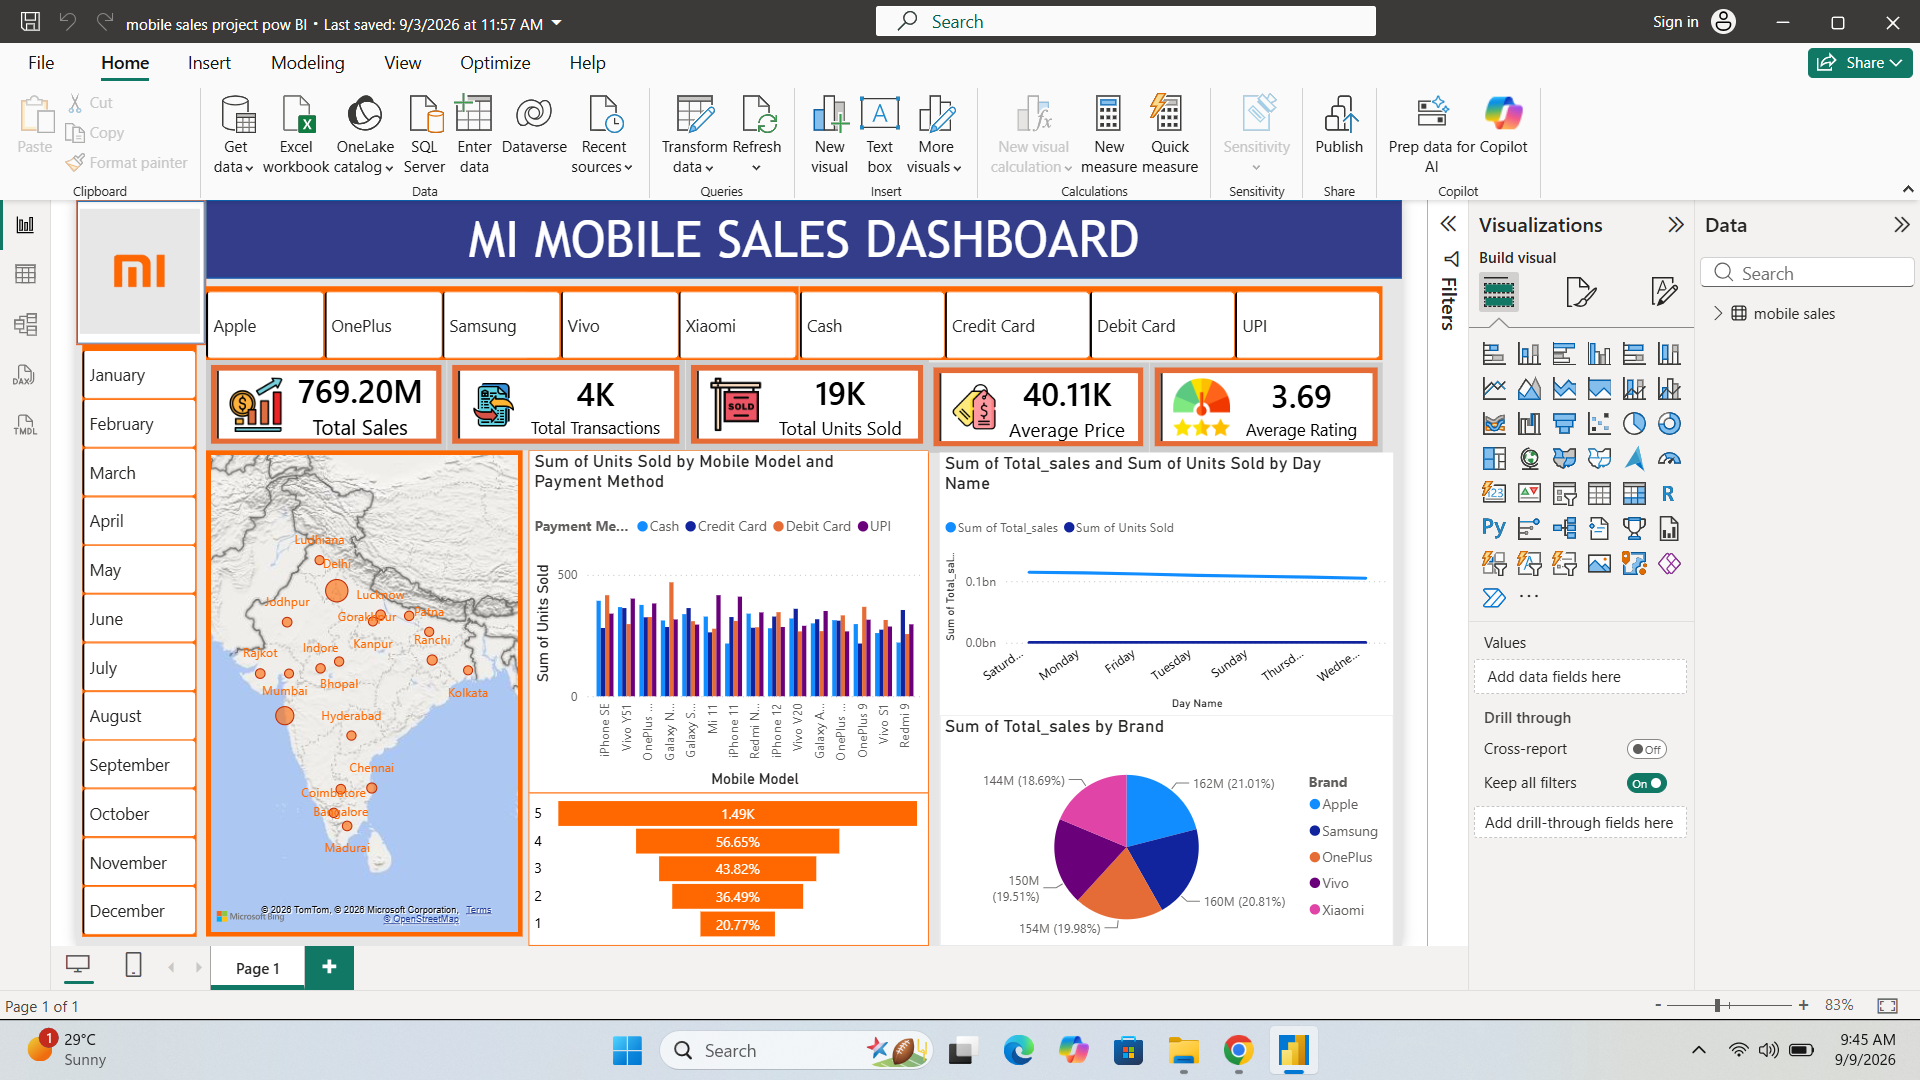

This screenshot's page, from the dashboard's own definition file:
{"tool":"powerbi","page":{"name":"Page 1","canvas":[1280,720],"ordinal":0},"visuals":[{"type":"shape","box":[126,0,1154.4,75.8],"z":0},{"type":"shape","box":[0,0,125.5,139.9],"z":1000},{"type":"image","box":[3.6,8.4,115.8,120.6],"z":2000},{"type":"advancedSlicerVisual","fields":{"Values":["mobile sales.Date.Variation.Date Hierarchy.Month"]},"box":[6.1,139.4,110.1,571.1],"z":3000},{"type":"advancedSlicerVisual","fields":{"Values":["mobile sales.Brand"]},"box":[126,83.2,572.3,70.9],"z":4000},{"type":"advancedSlicerVisual","fields":{"Values":["mobile sales.Payment Method"]},"box":[698.2,83.2,562.5,70.9],"z":5000},{"type":"map","fields":{"Size":["Sum(mobile sales.Total_sales)"],"Category":["mobile sales.City"]},"box":[126,240.9,305.7,469.6],"z":6000},{"type":"funnel","fields":{"Category":["mobile sales.Customer Ratings"],"Y":["CountNonNull(mobile sales.Transaction ID)"]},"box":[436.6,572.3,386.4,148],"z":7000},{"type":"clusteredColumnChart","fields":{"Category":["mobile sales.Mobile Model"],"Y":["Sum(mobile sales.Units Sold)"],"Series":["mobile sales.Payment Method"]},"box":[436.6,240.9,386.4,331.4],"z":8000},{"type":"pieChart","fields":{"Y":["Sum(mobile sales.Total_sales)"],"Category":["mobile sales.Brand"]},"box":[833.7,497.1,437.9,223.2],"z":9000},{"type":"cardVisual","fields":{"Data":["mobile sales.Total Sales"]},"box":[126,154.1,232.3,86.8],"z":10000},{"type":"cardVisual","fields":{"Data":["mobile sales.Total Transactions"]},"box":[358.3,154.1,229.9,86.8],"z":11000},{"type":"cardVisual","fields":{"Data":["mobile sales.Total Units Sold"]},"box":[588.2,154.1,234.8,86.8],"z":12000},{"type":"cardVisual","fields":{"Data":["mobile sales.Average Price"]},"box":[823,156.5,212.8,86.8],"z":13000},{"type":"cardVisual","fields":{"Data":["mobile sales.Average Rating"]},"box":[1035.7,156.5,225,86.8],"z":14000},{"type":"lineChart","fields":{"Y":["Sum(mobile sales.Total_sales)","Sum(mobile sales.Units Sold)"],"Category":["mobile sales.Day Name"]},"box":[833.7,243.7,437.9,253.4],"z":15000}]}

Visuals, with their boxes on the page's 1280x720 design canvas (x1, y1, x2, y2). These are canvas units, not pixel positions in the 1920x1080 screenshot, which may show the page scaled, cropped or inside an application window:
shape: 126,0,1280,76
shape: 0,0,126,140
image: 4,8,119,129
advancedSlicerVisual - mobile sales.Date.Variation.Date Hierarchy.Month: 6,139,116,710
advancedSlicerVisual - mobile sales.Brand: 126,83,698,154
advancedSlicerVisual - mobile sales.Payment Method: 698,83,1261,154
map - Sum(mobile sales.Total_sales) x mobile sales.City: 126,241,432,710
funnel - mobile sales.Customer Ratings x CountNonNull(mobile sales.Transaction ID): 437,572,823,720
clusteredColumnChart - mobile sales.Mobile Model x Sum(mobile sales.Units Sold): 437,241,823,572
pieChart - Sum(mobile sales.Total_sales) x mobile sales.Brand: 834,497,1272,720
cardVisual - mobile sales.Total Sales: 126,154,358,241
cardVisual - mobile sales.Total Transactions: 358,154,588,241
cardVisual - mobile sales.Total Units Sold: 588,154,823,241
cardVisual - mobile sales.Average Price: 823,156,1036,243
cardVisual - mobile sales.Average Rating: 1036,156,1261,243
lineChart - Sum(mobile sales.Total_sales) x Sum(mobile sales.Units Sold): 834,244,1272,497
